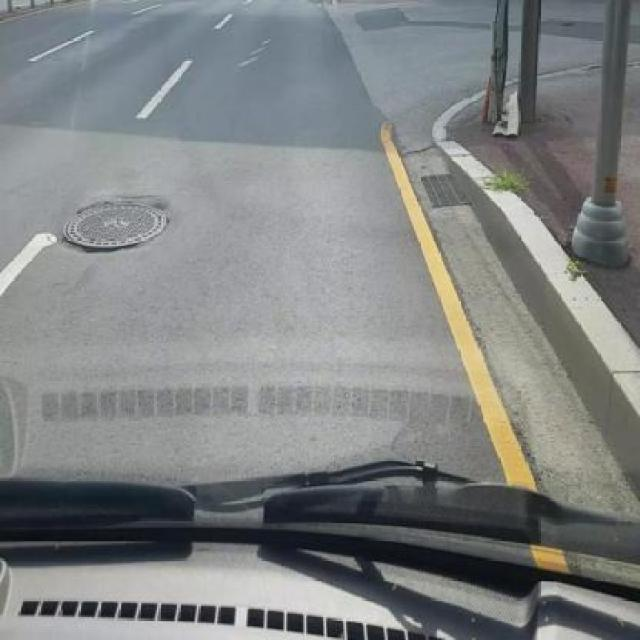Manhole: (60, 196, 171, 256), (422, 170, 473, 210)
